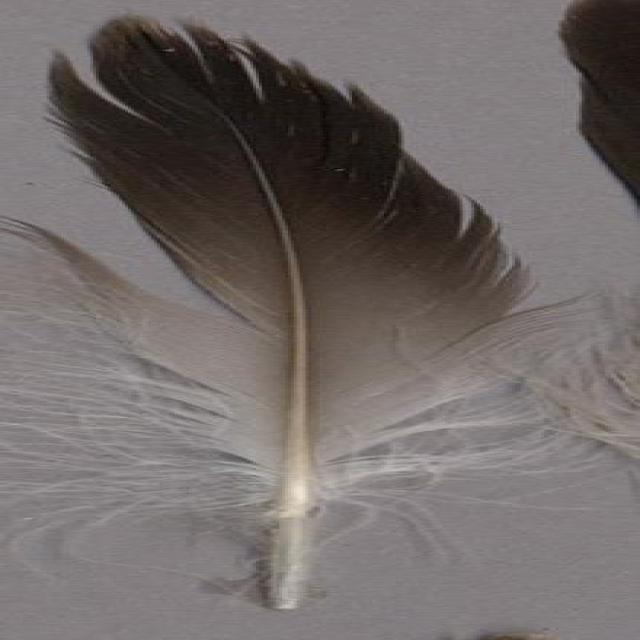feather: (0, 16, 640, 609)
